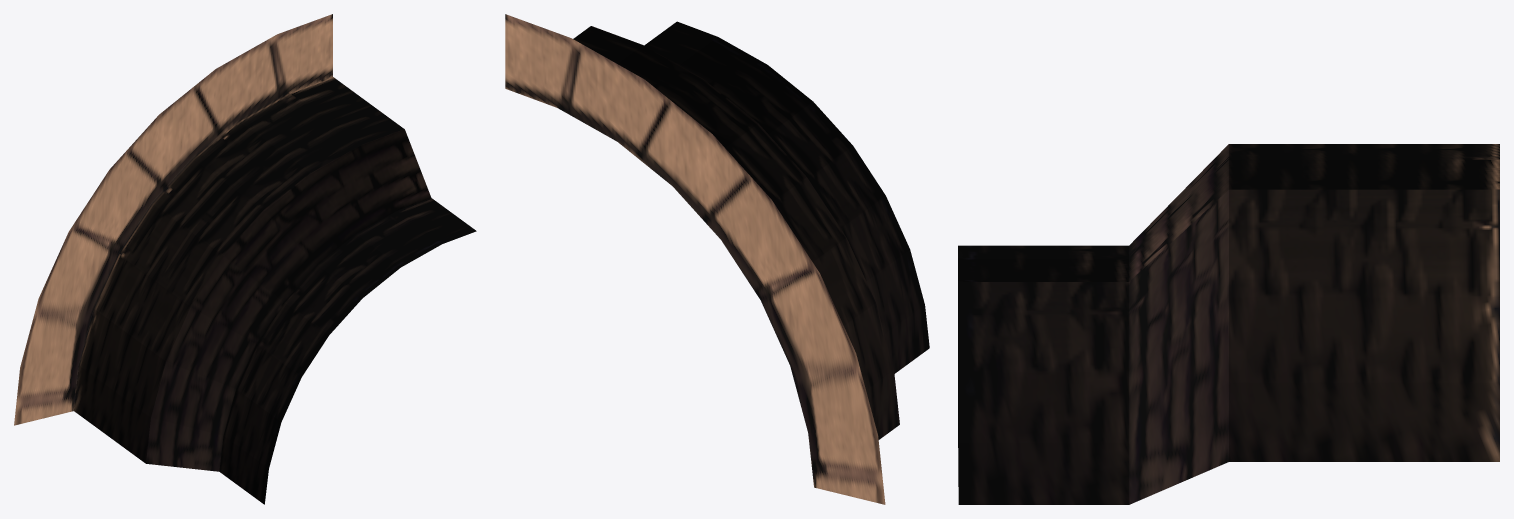
File: ex_2InCorner0.obj
3 views of the same model, side by side, from view 1: azimuth 30°, elevation 25°; view 2: azimuth 150°, elevation 25°; view 3: azimuth 270°, elevation 25° (orthographic). The views are drawn at different scales.
Visible parts, largest first — view 1: ex_InCorner0_Cube.300; view 2: ex_InCorner0_Cube.300; view 3: ex_InCorner0_Cube.300.
Part boxes in pixels (x1,y1,x2,y2): ex_InCorner0_Cube.300: (14,14,476,504); ex_InCorner0_Cube.300: (505,14,929,504); ex_InCorner0_Cube.300: (958,144,1499,504).
Size of the model in its own units: 174 by 174 by 136.
